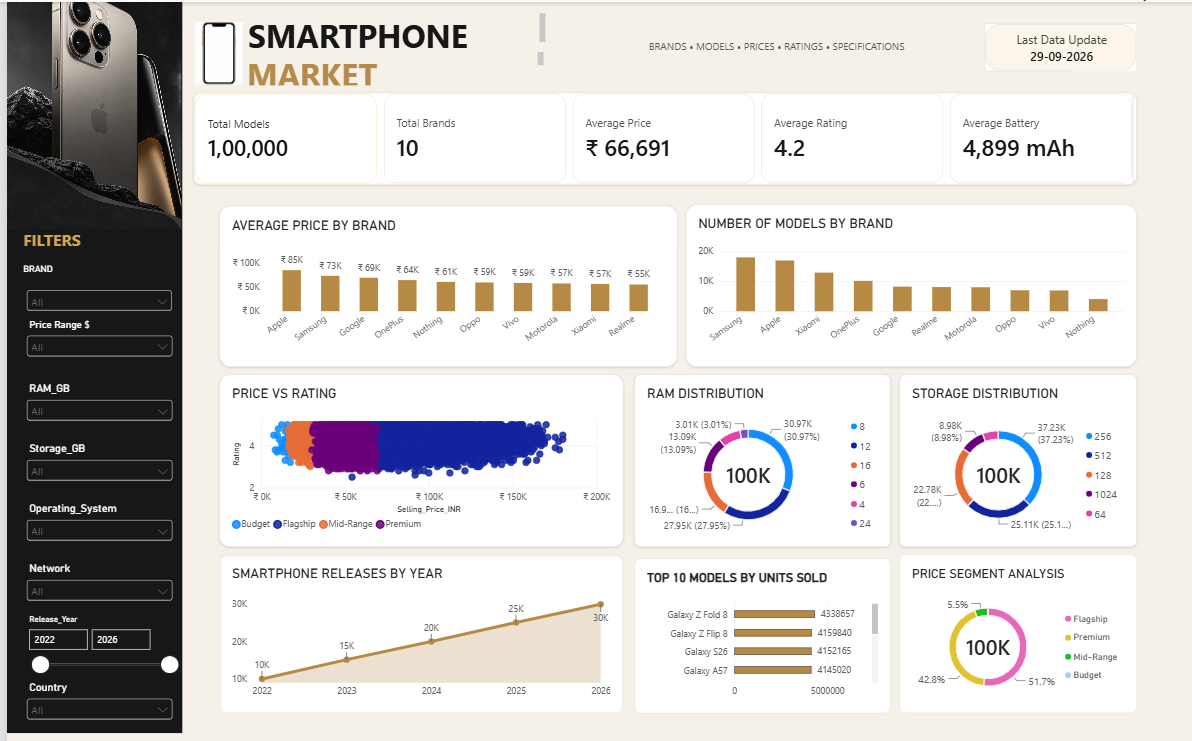

This screenshot's page, from the dashboard's own definition file:
{"tool":"powerbi","page":{"name":"Page 1","canvas":[1600,1000],"ordinal":0},"visuals":[{"type":"shape","box":[0,0,235,980],"z":0},{"type":"textbox","box":[323.3,15,398.3,53.3],"z":1000},{"type":"textbox","box":[790,48,485,25],"z":2000},{"type":"cardVisual","fields":{"Data":["Count(smartphone_market_analytics_100000.Smartphone_ID)","Count(smartphone_market_analytics_100000.Brand)","Avg(smartphone_market_analytics_100000.Selling_Price_INR)","Avg(smartphone_market_analytics_100000.Rating)","smartphone_market_analytics_100000.Average Battery Display"]},"box":[250,120,1265,125],"z":3000},{"type":"clusteredColumnChart","title":"AVERAGE PRICE BY BRAND","fields":{"Category":["smartphone_market_analytics_100000.Brand"],"Y":["Avg(smartphone_market_analytics_100000.Selling_Price_INR)"]},"box":[284.9,273.1,613.3,216.2],"z":4000},{"type":"clusteredColumnChart","title":"NUMBER OF MODELS BY BRAND","fields":{"Category":["smartphone_market_analytics_100000.Brand"],"Y":["CountNonNull(smartphone_market_analytics_100000.Smartphone_ID)"]},"box":[909.9,271.4,604.9,217.8],"z":5000},{"type":"lineChart","title":"SMARTPHONE RELEASES BY YEAR","fields":{"Category":["smartphone_market_analytics_100000.Release_Year"],"Y":["CountNonNull(smartphone_market_analytics_100000.Smartphone_ID)"]},"box":[284.9,740.6,541.2,212.8],"z":6000},{"type":"donutChart","title":"RAM DISTRIBUTION","fields":{"Category":["smartphone_market_analytics_100000.RAM_GB"],"Y":["CountNonNull(smartphone_market_analytics_100000.Smartphone_ID)"]},"box":[841.2,499.3,343.5,231.2],"z":7000},{"type":"scatterChart","title":"PRICE VS RATING","fields":{"Series":["smartphone_market_analytics_100000.Price_Segment"],"X":["smartphone_market_analytics_100000.Selling_Price_INR"],"Y":["smartphone_market_analytics_100000.Rating"]},"box":[284.9,499.3,541.2,231.2],"z":8000},{"type":"donutChart","title":"STORAGE DISTRIBUTION","fields":{"Category":["smartphone_market_analytics_100000.Storage_GB"],"Y":["CountNonNull(smartphone_market_analytics_100000.Smartphone_ID)"]},"box":[1196.4,499.3,318.4,231.2],"z":9000},{"type":"slicer","title":"BRAND","fields":{"Values":["smartphone_market_analytics_100000.Brand"]},"box":[21.8,350.2,204.4,75.4],"z":10000},{"type":"slicer","title":"PRICE RANGE VALUES","fields":{"Values":["smartphone_market_analytics_100000.Selling_Price_INR"]},"box":[22,425,205,60],"z":11000},{"type":"slicer","fields":{"Values":["smartphone_market_analytics_100000.RAM_GB"]},"box":[22,510,205,60],"z":12000},{"type":"slicer","fields":{"Values":["smartphone_market_analytics_100000.Storage_GB"]},"box":[22,590,205,60],"z":13000},{"type":"slicer","fields":{"Values":["smartphone_market_analytics_100000.Operating_System"]},"box":[22,670,205,60],"z":14000},{"type":"slicer","fields":{"Values":["smartphone_market_analytics_100000.Network"]},"box":[22,750,205,60],"z":15000},{"type":"slicer","fields":{"Values":["smartphone_market_analytics_100000.Release_Year"]},"box":[21.8,821,212.8,80.4],"z":16000},{"type":"slicer","fields":{"Values":["smartphone_market_analytics_100000.Country"]},"box":[22,910,205,60],"z":17000},{"type":"clusteredBarChart","title":"TOP 10 MODELS BY UNITS SOLD","fields":{"Category":["smartphone_market_analytics_100000.Model"],"Y":["Sum(smartphone_market_analytics_100000.Units_Sold)"]},"box":[841.2,745.6,343.5,207.8],"z":18000},{"type":"donutChart","title":"PRICE SEGMENT ANALYSIS","fields":{"Category":["smartphone_market_analytics_100000.Price_Segment"],"Y":["CountNonNull(smartphone_market_analytics_100000.Smartphone_ID)"]},"box":[1196.4,740.6,318.4,212.8],"z":19000},{"type":"textbox","box":[21.2,303.8,96.2,41.2],"z":20000},{"type":"cardVisual","fields":{"Data":["smartphone_market_analytics_100000.Last Data Update"]},"box":[1310,28,205,65],"z":21000},{"type":"textbox","box":[322.5,66.2,397.5,45],"z":22000},{"type":"image","box":[0,0,233.8,303.8],"z":23000},{"type":"image","box":[217.5,27.5,132.5,83.8],"z":24000}]}

Visuals, with their boxes in screenshot pixels (x1, y1, x2, y2), scaled from the page's 1600x1000 canvas onto the 1192x741 screenshot:
shape: select_region(0, 0, 175, 726)
textbox: select_region(241, 11, 538, 51)
textbox: select_region(589, 36, 950, 54)
cardVisual - Count(smartphone_market_analytics_100000.Smartphone_ID) x Count(smartphone_market_analytics_100000.Brand): select_region(186, 89, 1129, 182)
"AVERAGE PRICE BY BRAND" clusteredColumnChart: select_region(212, 202, 669, 363)
"NUMBER OF MODELS BY BRAND" clusteredColumnChart: select_region(678, 201, 1129, 362)
"SMARTPHONE RELEASES BY YEAR" lineChart: select_region(212, 549, 615, 706)
"RAM DISTRIBUTION" donutChart: select_region(627, 370, 883, 541)
"PRICE VS RATING" scatterChart: select_region(212, 370, 615, 541)
"STORAGE DISTRIBUTION" donutChart: select_region(891, 370, 1129, 541)
"BRAND" slicer: select_region(16, 259, 169, 315)
"PRICE RANGE VALUES" slicer: select_region(16, 315, 169, 359)
slicer - smartphone_market_analytics_100000.RAM_GB: select_region(16, 378, 169, 422)
slicer - smartphone_market_analytics_100000.Storage_GB: select_region(16, 437, 169, 482)
slicer - smartphone_market_analytics_100000.Operating_System: select_region(16, 496, 169, 541)
slicer - smartphone_market_analytics_100000.Network: select_region(16, 556, 169, 600)
slicer - smartphone_market_analytics_100000.Release_Year: select_region(16, 608, 175, 668)
slicer - smartphone_market_analytics_100000.Country: select_region(16, 674, 169, 719)
"TOP 10 MODELS BY UNITS SOLD" clusteredBarChart: select_region(627, 552, 883, 706)
"PRICE SEGMENT ANALYSIS" donutChart: select_region(891, 549, 1129, 706)
textbox: select_region(16, 225, 87, 256)
cardVisual - smartphone_market_analytics_100000.Last Data Update: select_region(976, 21, 1129, 69)
textbox: select_region(240, 49, 536, 82)
image: select_region(0, 0, 174, 225)
image: select_region(162, 20, 261, 82)
